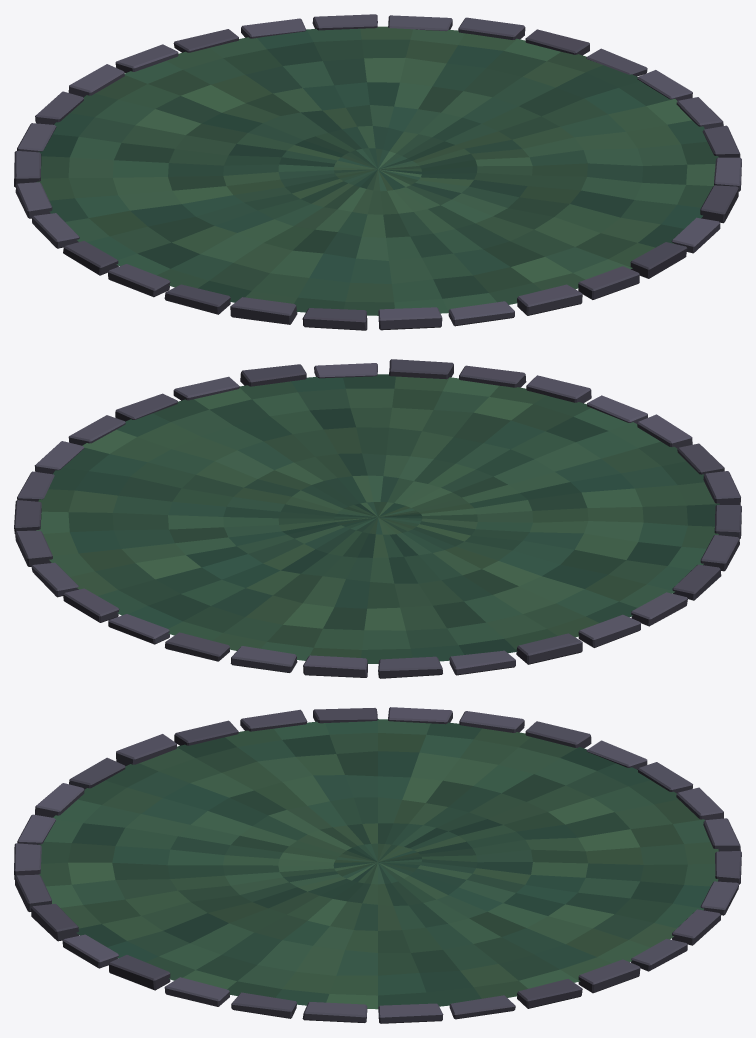
The model's file is jardim_chao.fbx.
The picture shows the model from 3 angles, top to bottom: view 1: azimuth 30°, elevation 25°; view 2: azimuth 150°, elevation 25°; view 3: azimuth 270°, elevation 25°; orthographic projection.
Visible parts, largest first — view 1: jardim_chao; view 2: jardim_chao; view 3: jardim_chao.
Boxes of the visible parts, x1=… form: jardim_chao: x1=14, y1=14, x2=741, y2=330; jardim_chao: x1=14, y1=359, x2=741, y2=678; jardim_chao: x1=14, y1=707, x2=741, y2=1023.
Bounding box in the file's own units: 65.96 × 1.28 × 65.75.
